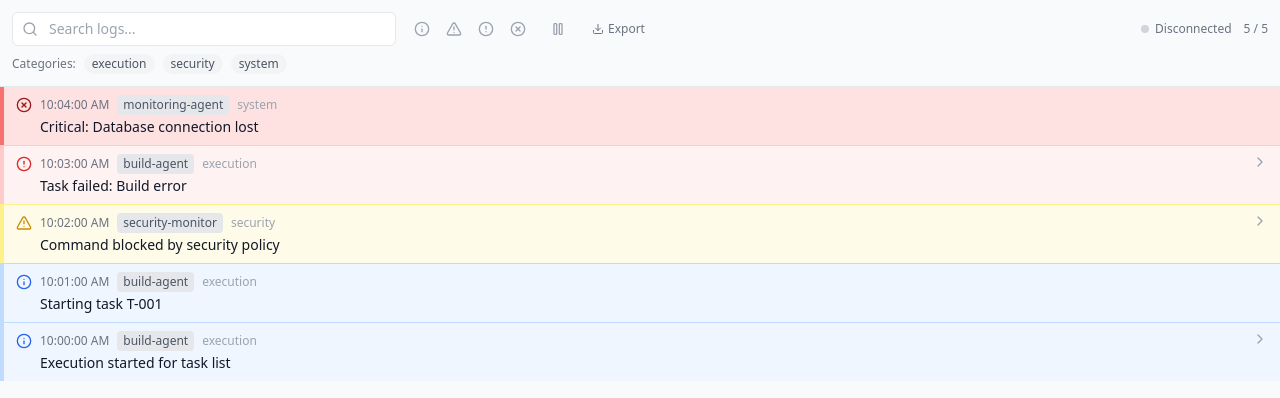
Scenario: UnifiedLogViewer › Search › filters logs by search term
expect the text "Execution started for task list" is shown: met, box [40,353,231,372]
Type "critical" into the field with placeholder "Search logs...".
click(204, 29); type("critical")  # box [12,12,396,46]
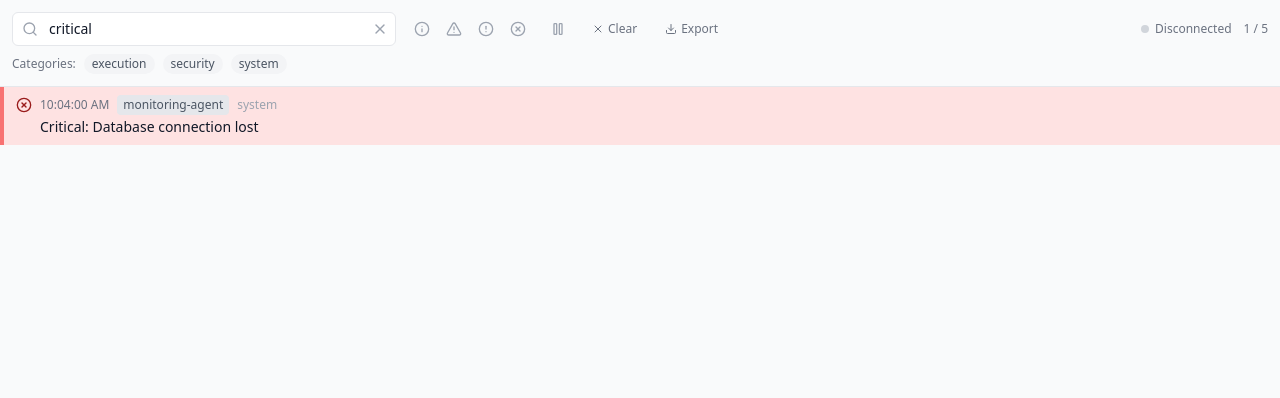
expect the text "Critical: Database connection lost" is shown: met, box [40,117,259,136]
expect the text "Execution started for task list" is gone: met
